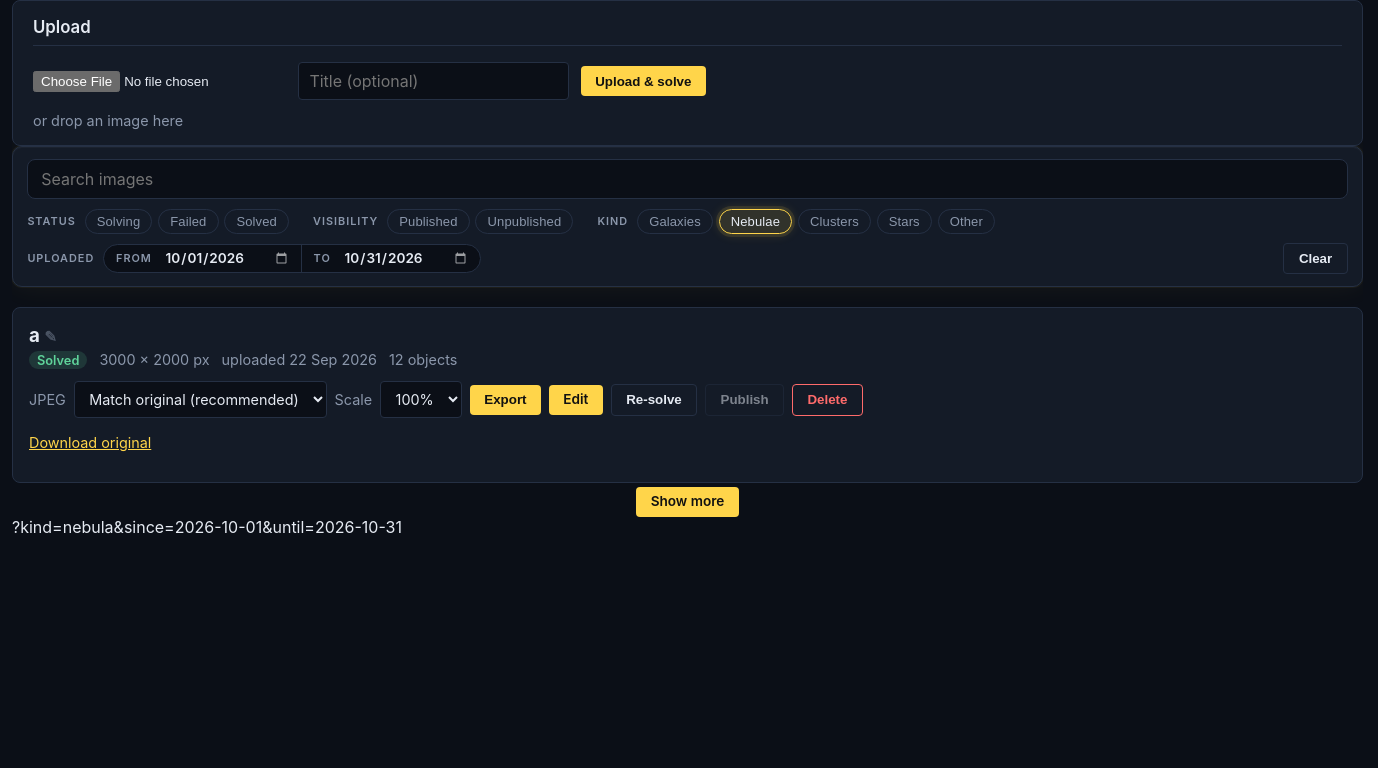
ImagesPage search and filters (#189) › kind and dates reach the API from the URL and ride on the Show more link
This screenshot has width=1378, height=768.
Expected: the date field labelled "From" holds "2026-10-01", [158,245,297,272]
What coordinates should you click on to do the following:
click the button "Galaxies"
I would click on:
 (675, 222)
Its box is [637,209,713,234].
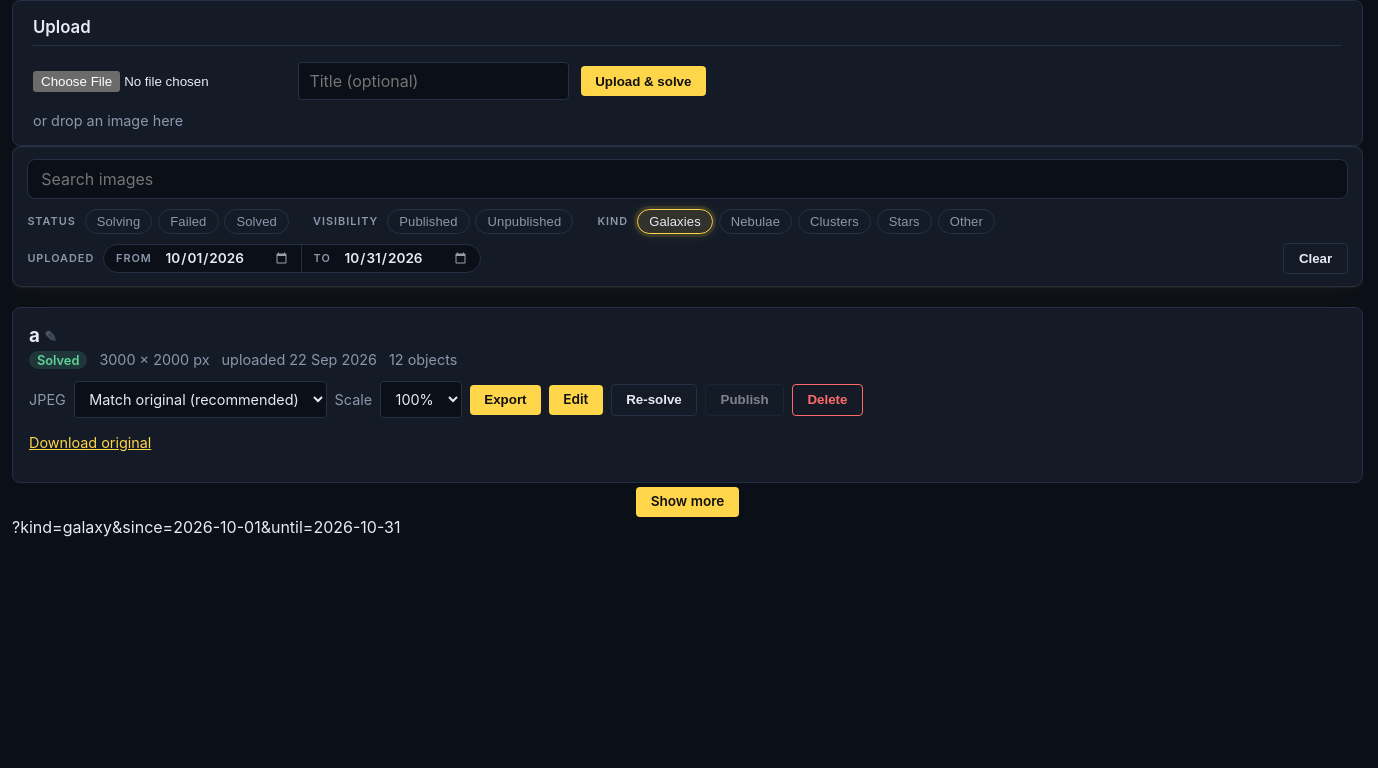
Expected: the text with test id "url" reads "?kind=galaxy&since=2026-10-01&until=2026-10-31", [12,517,400,537]
